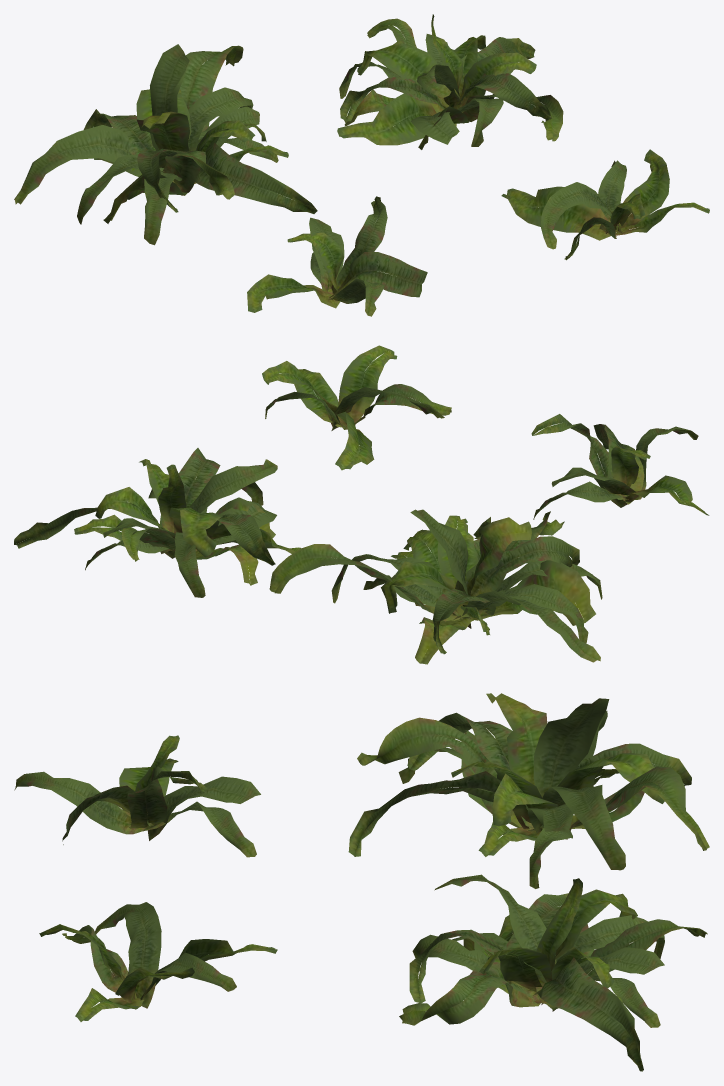
File: env_fern.glb
The picture shows the model from 3 angles, top to bottom: view 1: azimuth 30°, elevation 25°; view 2: azimuth 150°, elevation 25°; view 3: azimuth 270°, elevation 25°; orthographic projection. The views are drawn at different scales.
Parts seen in each view (by area): view 1: ENV_fern_02; view 2: ENV_fern_02; view 3: ENV_fern_02.
Boxes of the visible parts, x1,y1,x2,y2 form: ENV_fern_02: (14, 14, 709, 316); ENV_fern_02: (14, 345, 709, 664); ENV_fern_02: (14, 693, 709, 1071).
Size of the model in its own units: 2.99 by 0.65 by 2.61.
1 material, 1 textured.
